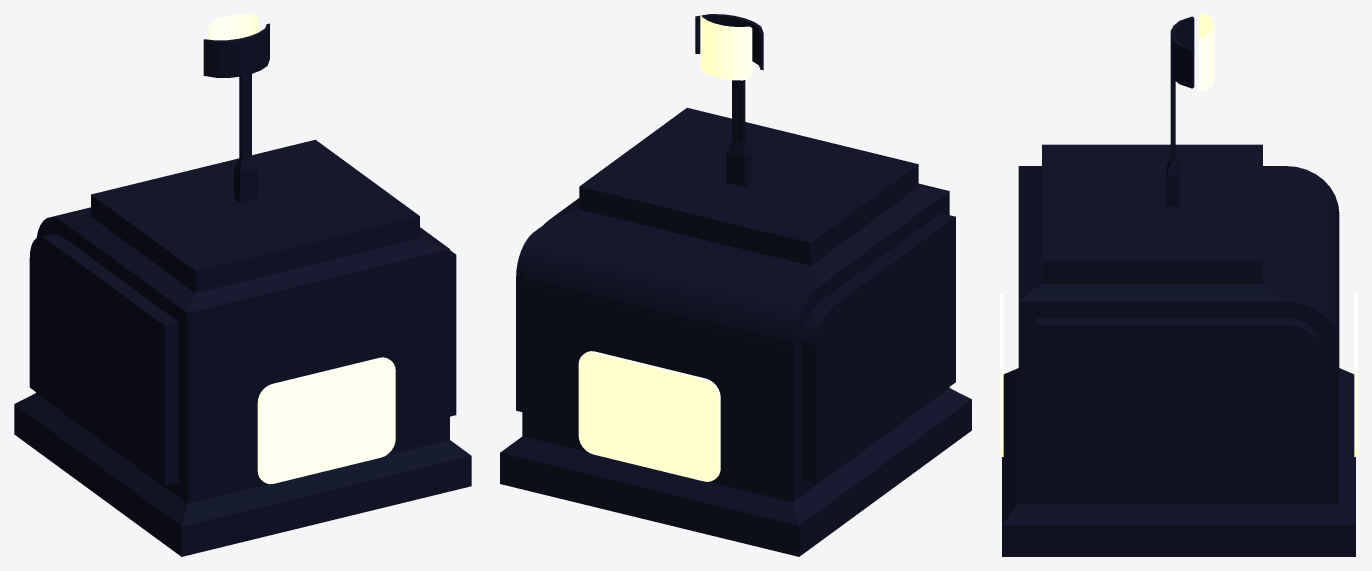
The model's file is Decoration1.fbx.
3 renders of one model, left to right at view 1: azimuth 30°, elevation 25°; view 2: azimuth 150°, elevation 25°; view 3: azimuth 270°, elevation 25°, orthographic. The views are drawn at different scales.
Visible parts, largest first — view 1: Body.001; view 2: Body.001; view 3: Body.001.
Part boxes in pixels (bbox=[...]): Body.001: bbox=[14, 14, 471, 556]; Body.001: bbox=[500, 14, 971, 556]; Body.001: bbox=[1000, 14, 1357, 556].
Size of the model in its own units: 201 by 284 by 202.
